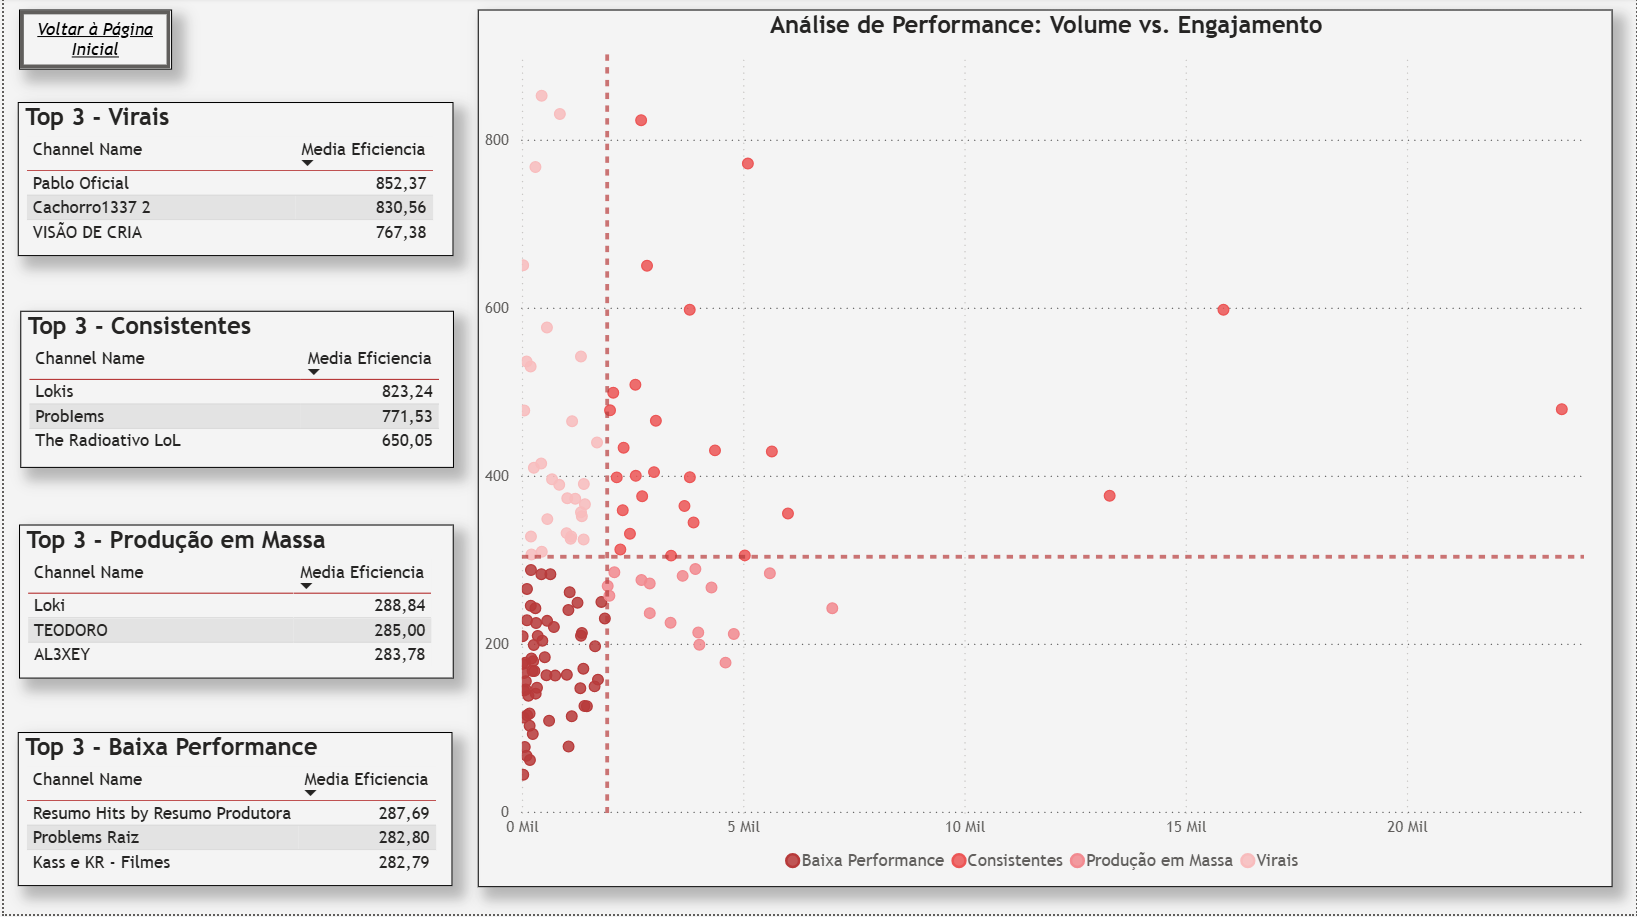

What the dashboard file says about the page in this screenshot:
{"tool":"powerbi","page":{"name":"Radar de Oportunidade","canvas":[1280,720],"ordinal":3},"visuals":[{"type":"scatterChart","title":"Análise de Performance: Volume vs. Engajamento","fields":{"Category":["top_youtube_brasil_limpo.Channel Name"],"X":["Sum(top_youtube_brasil_limpo.Total Videos)"],"Y":["Sum(top_youtube_brasil_limpo.Views_por_Inscrito)"],"Series":["top_youtube_brasil_limpo.Classificacao_Coluna"]},"box":[371.1,9.5,889.5,687.6],"z":0},{"type":"tableEx","title":"Top 3 - Virais","fields":{"Values":["top_youtube_brasil_limpo.Channel Name","_Medidas.Media Eficiencia"]},"box":[10.5,82.6,341.9,120.9],"z":1000},{"type":"tableEx","title":"Top 3 - Consistentes","fields":{"Values":["top_youtube_brasil_limpo.Channel Name","_Medidas.Media Eficiencia"]},"box":[12.6,246,339.6,123],"z":2000},{"type":"tableEx","title":"Top 3 - Produção em Massa","fields":{"Values":["top_youtube_brasil_limpo.Channel Name","_Medidas.Media Eficiencia"]},"box":[11.6,413.2,340.7,120.9],"z":3000},{"type":"tableEx","title":"Top 3 - Baixa Performance","fields":{"Values":["top_youtube_brasil_limpo.Channel Name","_Medidas.Media Eficiencia"]},"box":[10.5,576.2,340.7,120.9],"z":4000},{"type":"actionButton","box":[11.6,9.5,119.9,47.3],"z":5000}]}

Visuals, with their boxes in screenshot pixels (x1, y1, x2, y2), scaled from the page's 1280x720 canvas onto the 1637x917 screenshot:
"Análise de Performance: Volume vs. Engajamento" scatterChart: x1=475 y1=12 x2=1612 y2=888
"Top 3 - Virais" tableEx: x1=13 y1=105 x2=451 y2=259
"Top 3 - Consistentes" tableEx: x1=16 y1=313 x2=450 y2=470
"Top 3 - Produção em Massa" tableEx: x1=15 y1=526 x2=451 y2=680
"Top 3 - Baixa Performance" tableEx: x1=13 y1=734 x2=449 y2=888
actionButton: x1=15 y1=12 x2=168 y2=72
